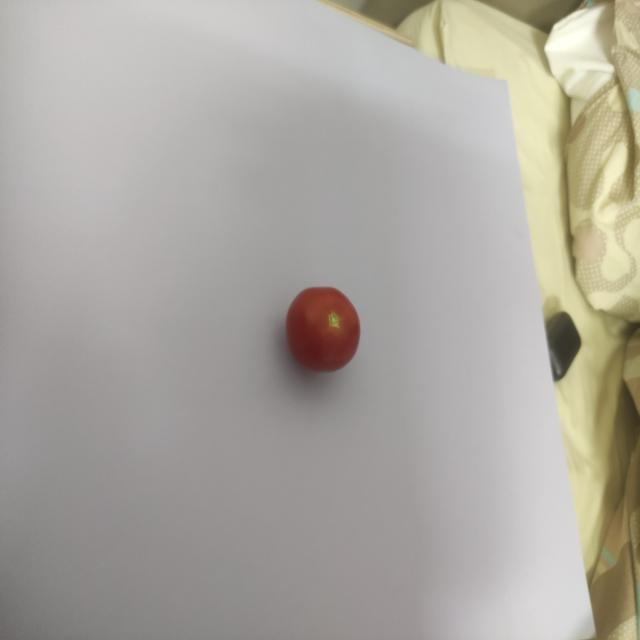kirmizi: (284, 273, 372, 382)
